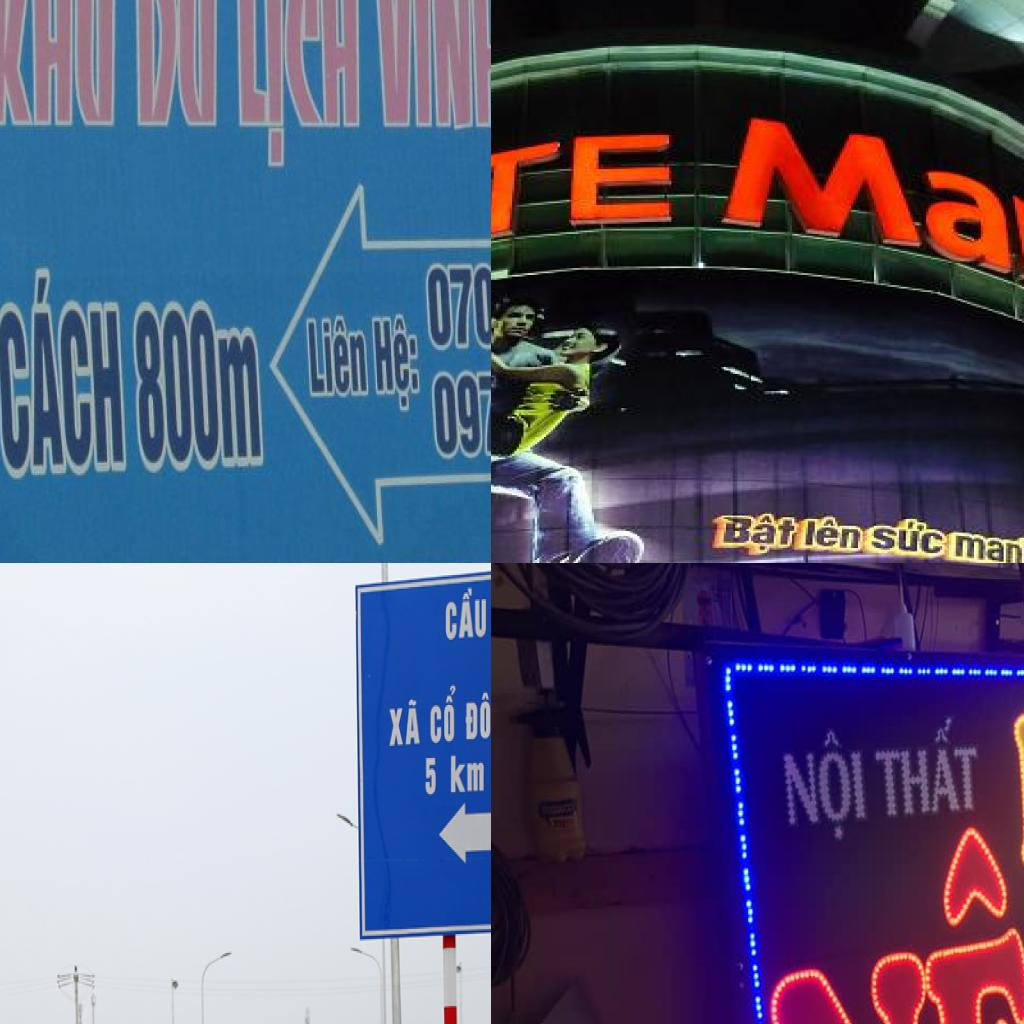text: (701, 107, 1024, 338), (748, 789, 1024, 1024), (491, 131, 680, 329), (0, 270, 130, 485), (131, 298, 268, 476), (231, 0, 364, 176), (369, 0, 491, 135), (0, 0, 120, 133), (864, 716, 983, 826), (127, 0, 220, 133), (776, 731, 872, 845), (424, 256, 491, 355), (302, 314, 370, 403), (370, 311, 426, 418), (710, 509, 801, 555), (865, 517, 953, 557), (439, 582, 489, 643), (935, 531, 1024, 563), (799, 516, 867, 556), (384, 693, 426, 755), (422, 681, 460, 746), (445, 753, 488, 795), (461, 687, 491, 742), (421, 754, 437, 800)
